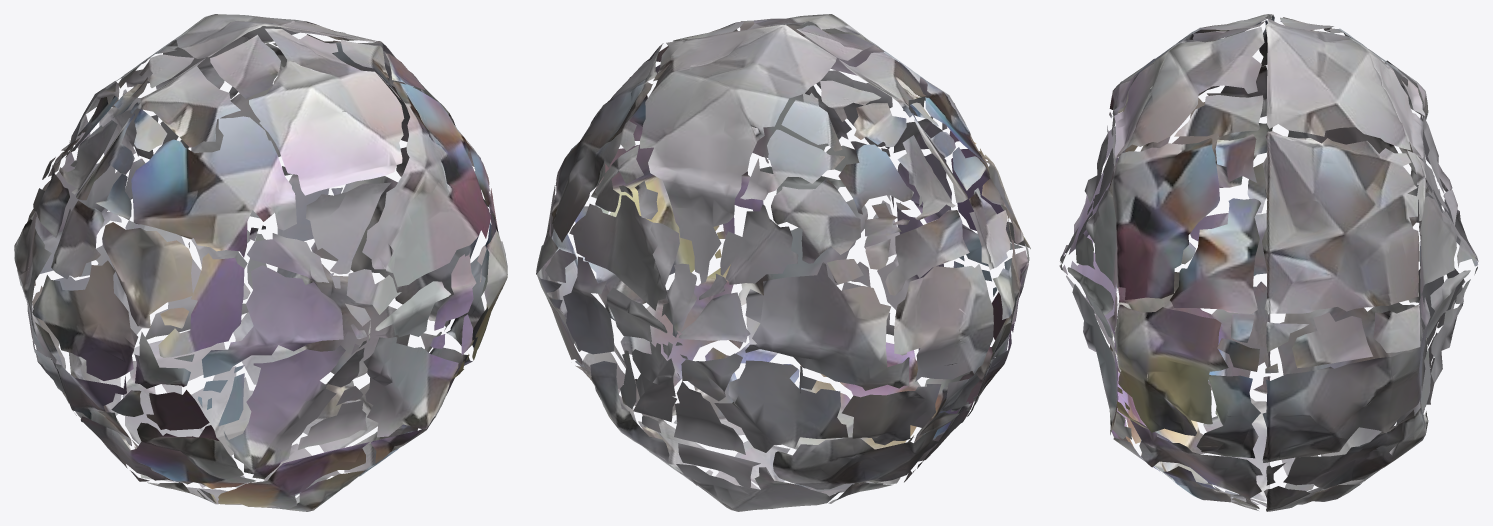
Rendered from crystal_2.glb.
The picture shows the model from 3 angles, left to right: view 1: azimuth 30°, elevation 25°; view 2: azimuth 150°, elevation 25°; view 3: azimuth 270°, elevation 25°; orthographic projection.
Parts seen in each view (by area): view 1: crystal; view 2: crystal; view 3: crystal.
Part boxes in pixels (box(x1,y1,x2,y2)): crystal: box(14, 14, 507, 511); crystal: box(536, 14, 1030, 511); crystal: box(1059, 14, 1478, 511).
Size of the model in its own units: 0.9723 by 0.9763 by 0.779.
1 material, 1 textured.
